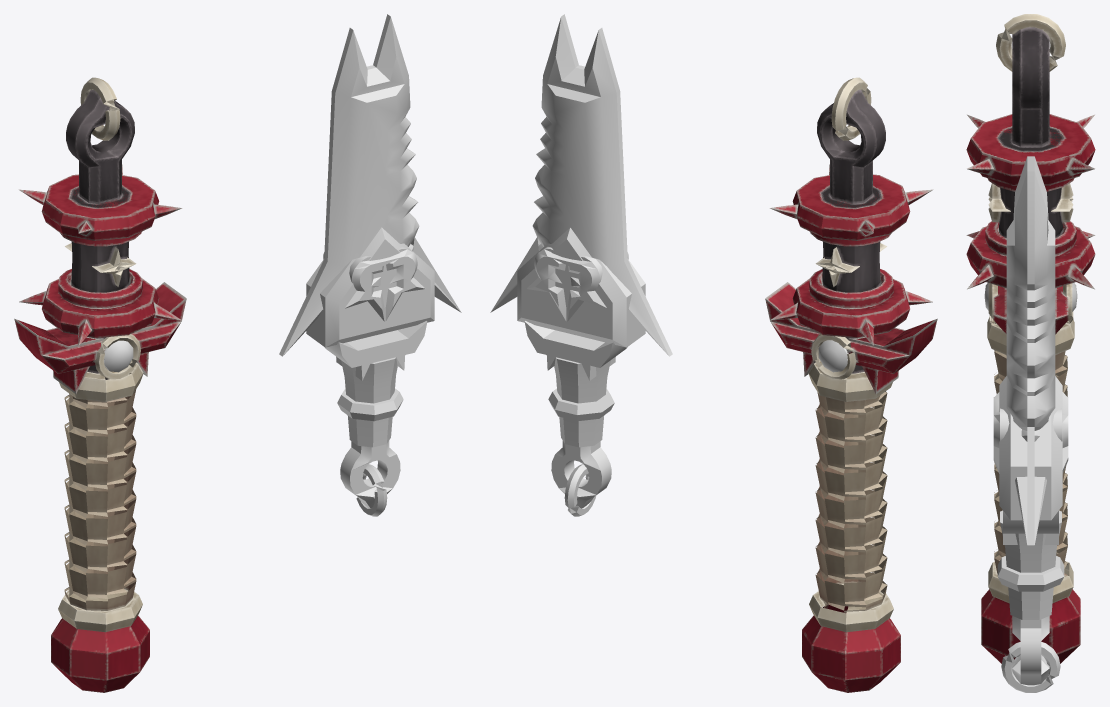
Rendered from Shacklewound.fbx.
3 views of the same model, side by side, from view 1: azimuth 30°, elevation 25°; view 2: azimuth 150°, elevation 25°; view 3: azimuth 270°, elevation 25° (orthographic). The views are drawn at different scales.
Visible parts, largest first — view 1: Shacklewound_Body, HeadBlade, HeadLanget, HeadFerrule, HeadMotif, HeadGuard, TailLug, HeadBand, TailRing, Shacklewound_Glow; view 2: Shacklewound_Body, HeadBlade, HeadLanget, HeadFerrule, HeadMotif, HeadGuard, TailLug, HeadBand, TailRing, Shacklewound_Glow; view 3: Shacklewound_Body, HeadBlade, HeadLanget, HeadFerrule, TailLug, HeadMotif, HeadBand, TailRing, HeadGuard, Shacklewound_Glow.
Part boxes in pixels (x1=…): Shacklewound_Body: x1=14, y1=77, x2=186, y2=692; HeadBlade: x1=279, y1=14, x2=461, y2=356; HeadLanget: x1=306, y1=227, x2=434, y2=347; HeadFerrule: x1=341, y1=357, x2=397, y2=447; HeadMotif: x1=323, y1=247, x2=424, y2=321; HeadGuard: x1=324, y1=321, x2=427, y2=380; TailLug: x1=340, y1=441, x2=400, y2=508; HeadBand: x1=337, y1=388, x2=403, y2=421; TailRing: x1=356, y1=464, x2=387, y2=516; Shacklewound_Glow: x1=104, y1=340, x2=133, y2=372; Shacklewound_Body: x1=765, y1=77, x2=937, y2=692; HeadBlade: x1=490, y1=14, x2=672, y2=356; HeadLanget: x1=517, y1=227, x2=645, y2=347; HeadFerrule: x1=554, y1=357, x2=610, y2=447; HeadMotif: x1=527, y1=247, x2=628, y2=321; HeadGuard: x1=524, y1=321, x2=627, y2=380; TailLug: x1=551, y1=441, x2=611, y2=508; HeadBand: x1=548, y1=388, x2=614, y2=421; TailRing: x1=564, y1=464, x2=596, y2=516; Shacklewound_Glow: x1=818, y1=340, x2=848, y2=372; Shacklewound_Body: x1=966, y1=14, x2=1095, y2=663; HeadBlade: x1=1006, y1=156, x2=1055, y2=545; HeadLanget: x1=999, y1=376, x2=1062, y2=520; HeadFerrule: x1=1000, y1=510, x2=1061, y2=619; TailLug: x1=1012, y1=616, x2=1049, y2=685; HeadMotif: x1=993, y1=392, x2=1068, y2=473; HeadBand: x1=997, y1=556, x2=1064, y2=591; TailRing: x1=1001, y1=642, x2=1060, y2=692; HeadGuard: x1=1003, y1=511, x2=1058, y2=544; Shacklewound_Glow: x1=984, y1=283, x2=1077, y2=311.
Size of the model in its own units: 1.45 by 1.93 by 0.3473.
